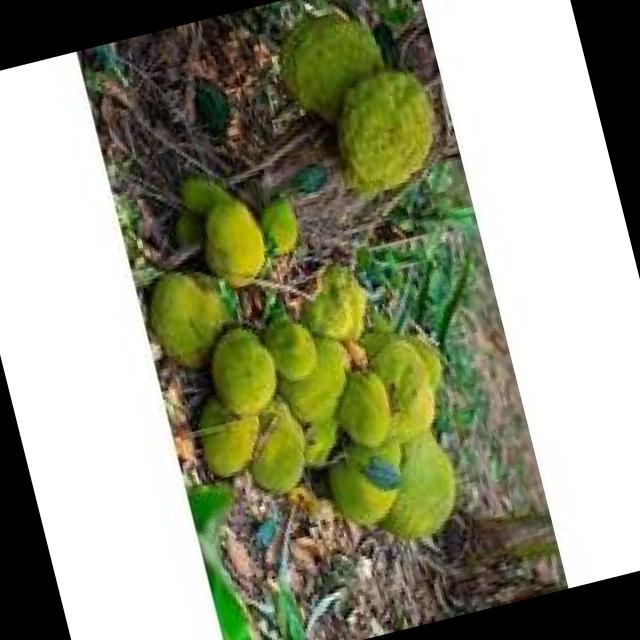Fruit: (263, 0, 471, 240)
